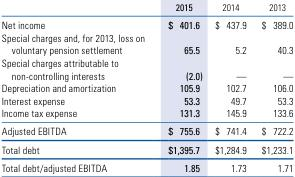table: (0, 0, 292, 173)
table column: (0, 0, 155, 173), (155, 0, 207, 173), (207, 0, 253, 173), (253, 0, 292, 173)
table column header: (0, 0, 292, 15)
table row: (0, 30, 292, 56), (0, 56, 292, 81), (0, 139, 292, 158), (0, 121, 292, 139), (0, 0, 292, 15), (0, 15, 292, 30), (0, 106, 292, 121), (0, 158, 292, 173), (0, 93, 292, 106), (0, 81, 292, 93)
